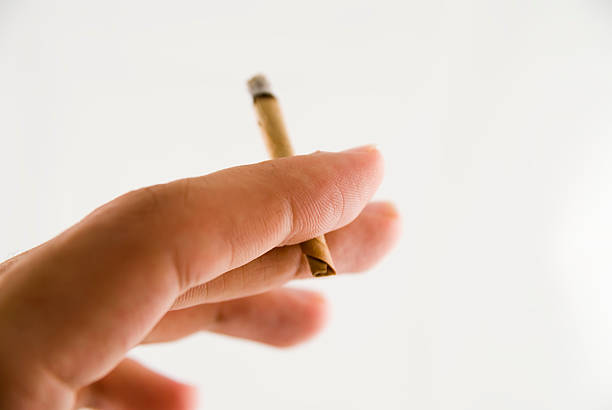cigarette: (245, 73, 336, 277)
